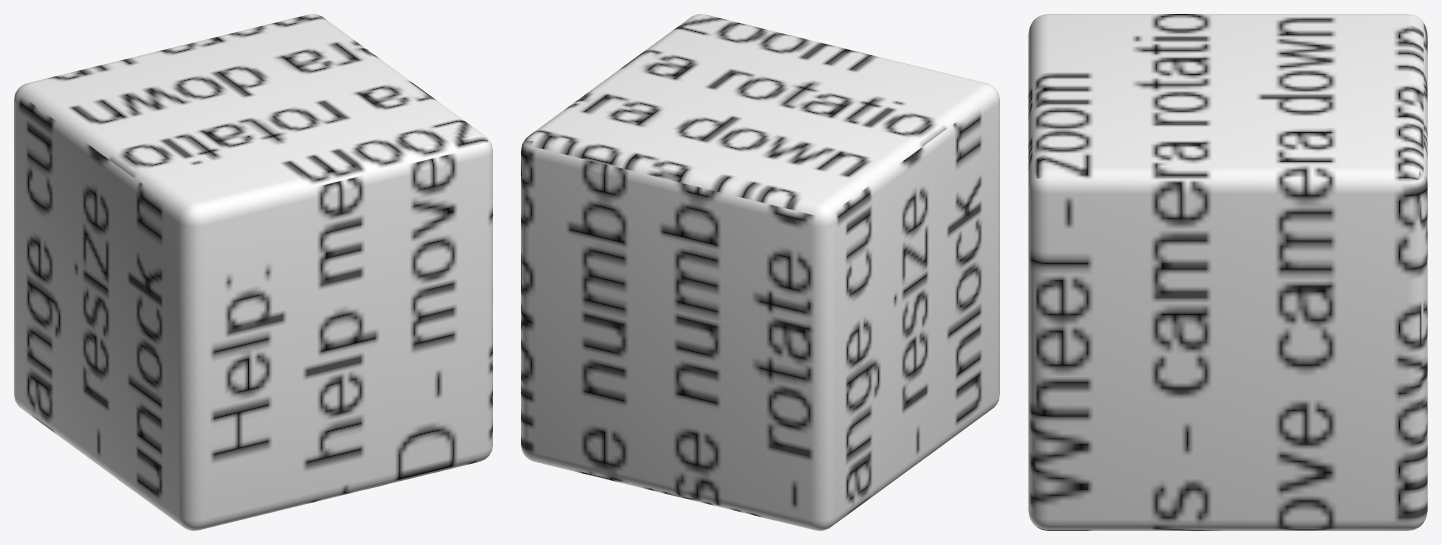
Rendered from hcube.obj.
The picture shows the model from 3 angles, left to right: view 1: azimuth 30°, elevation 25°; view 2: azimuth 150°, elevation 25°; view 3: azimuth 270°, elevation 25°; orthographic projection. The views are drawn at different scales.
Visible parts, largest first — view 1: Cube_Finished_Cube.001; view 2: Cube_Finished_Cube.001; view 3: Cube_Finished_Cube.001.
Part boxes in pixels (x1,y1,x2,y2): Cube_Finished_Cube.001: (14, 14, 492, 530); Cube_Finished_Cube.001: (521, 14, 999, 530); Cube_Finished_Cube.001: (1028, 14, 1427, 530).
Size of the model in its own units: 2 by 2 by 2.
1 material, 1 textured.
